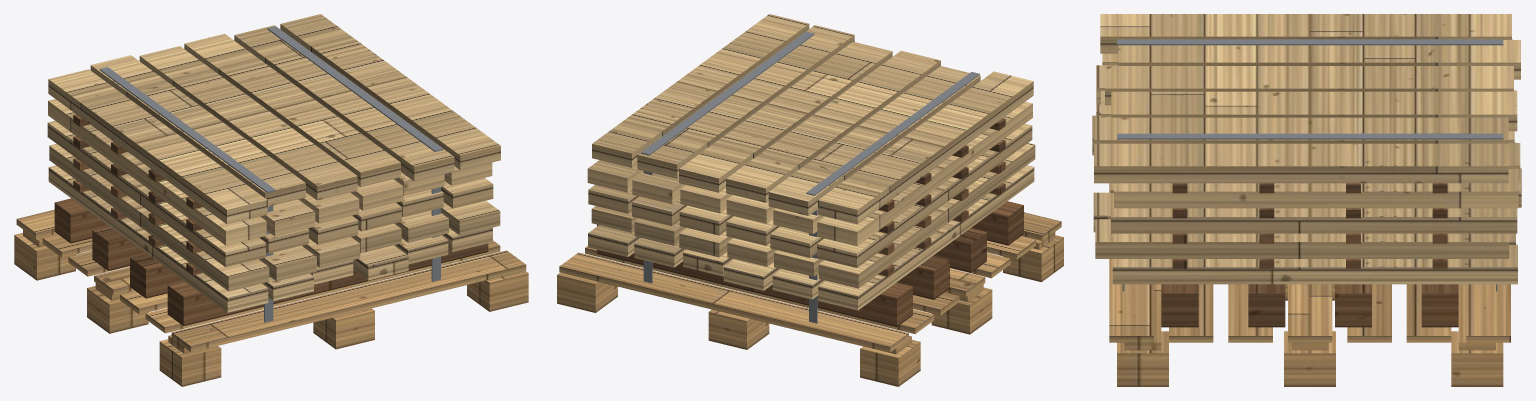
Rendered from pallet_stack.glb.
3 views of the same model, side by side, from view 1: azimuth 30°, elevation 25°; view 2: azimuth 150°, elevation 25°; view 3: azimuth 270°, elevation 25° (orthographic). The views are drawn at different scales.
Visible parts, largest first — view 1: pallet_stack_lumber, pallet_stack_wood, pallet_stack_dkwood, pallet_stack_steel_d; view 2: pallet_stack_lumber, pallet_stack_wood, pallet_stack_dkwood, pallet_stack_steel_d; view 3: pallet_stack_lumber, pallet_stack_wood, pallet_stack_dkwood, pallet_stack_steel_d.
Boxes of the visible parts, x1,y1,x2,y2 form: pallet_stack_lumber: (47, 14, 500, 312); pallet_stack_wood: (14, 209, 528, 386); pallet_stack_dkwood: (54, 114, 488, 325); pallet_stack_steel_d: (99, 26, 443, 322); pallet_stack_lumber: (587, 14, 1035, 310); pallet_stack_wood: (557, 212, 1063, 386); pallet_stack_dkwood: (597, 118, 1023, 326); pallet_stack_steel_d: (641, 31, 979, 323); pallet_stack_lumber: (1092, 14, 1521, 284); pallet_stack_wood: (1109, 183, 1510, 386); pallet_stack_dkwood: (1161, 183, 1458, 327); pallet_stack_steel_d: (1117, 39, 1503, 291).
Size of the model in its own units: 1.24 by 0.596 by 1.15.
4 materials, 3 textured.
